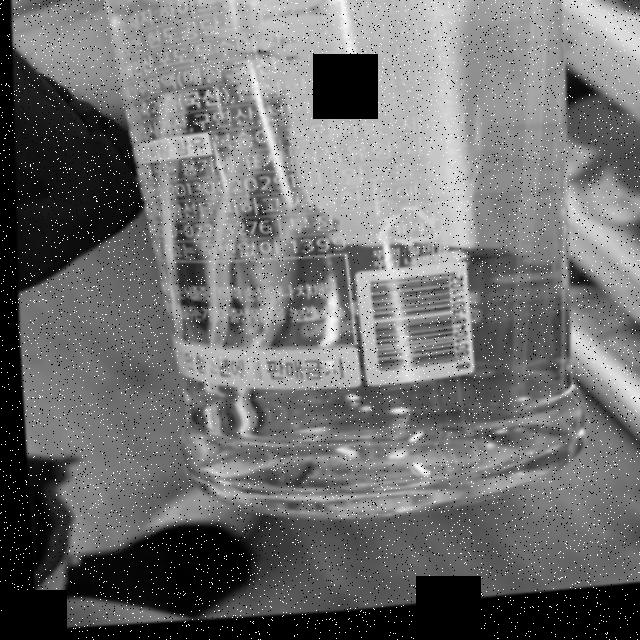Glass: (367, 208, 444, 258)
